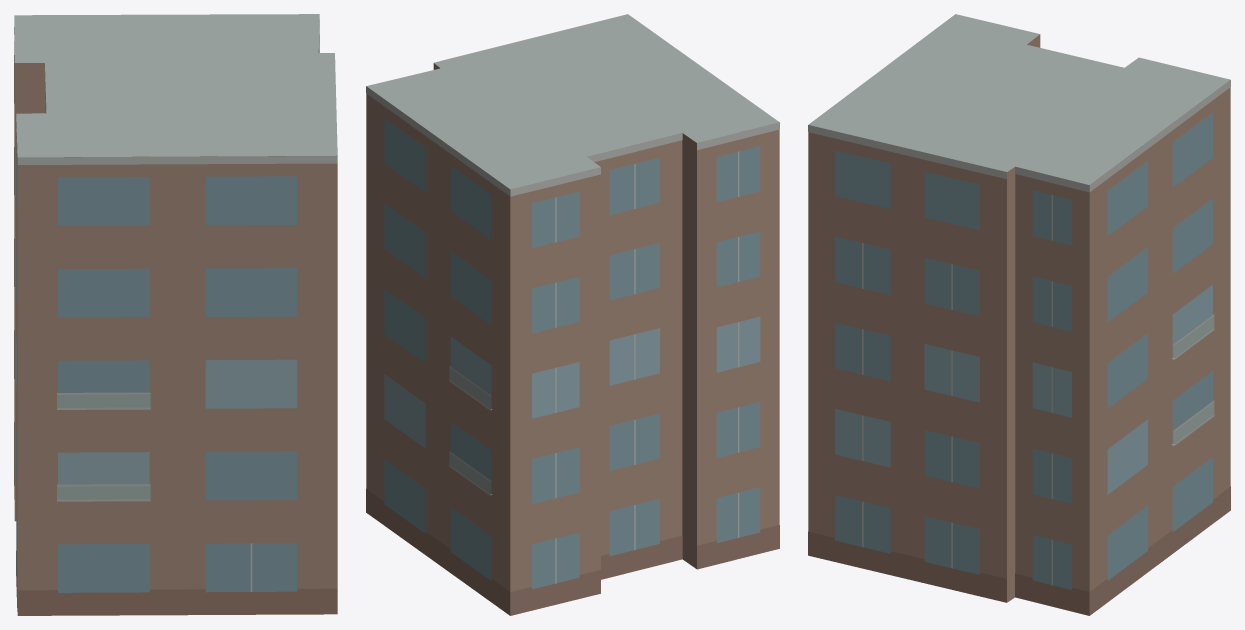
File: survey-upis-32868203.glb
The picture shows the model from 3 angles, left to right: view 1: azimuth 30°, elevation 25°; view 2: azimuth 150°, elevation 25°; view 3: azimuth 270°, elevation 25°; orthographic projection. The views are drawn at different scales.
Parts seen in each view (by area): view 1: survey-upis-32868203.tmp; view 2: survey-upis-32868203.tmp; view 3: survey-upis-32868203.tmp.
Part boxes in pixels (bbox=[...]): survey-upis-32868203.tmp: bbox=[14, 14, 337, 615]; survey-upis-32868203.tmp: bbox=[366, 14, 779, 615]; survey-upis-32868203.tmp: bbox=[808, 14, 1230, 615].
Bounding box in the file's own units: 12.32 × 14.45 × 12.86.
